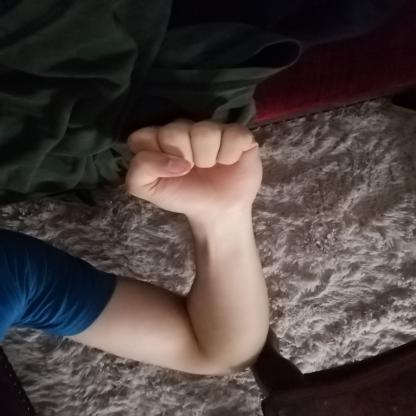SAD: (109, 111, 282, 234)
